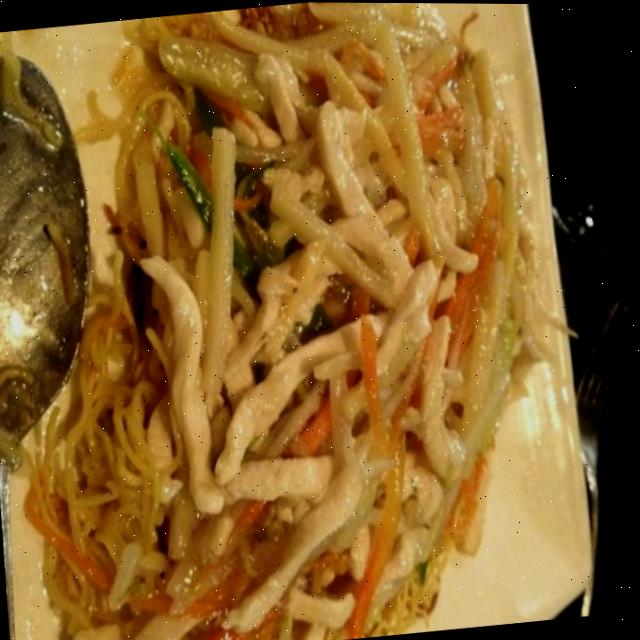面条主食: (0, 0, 595, 640)
